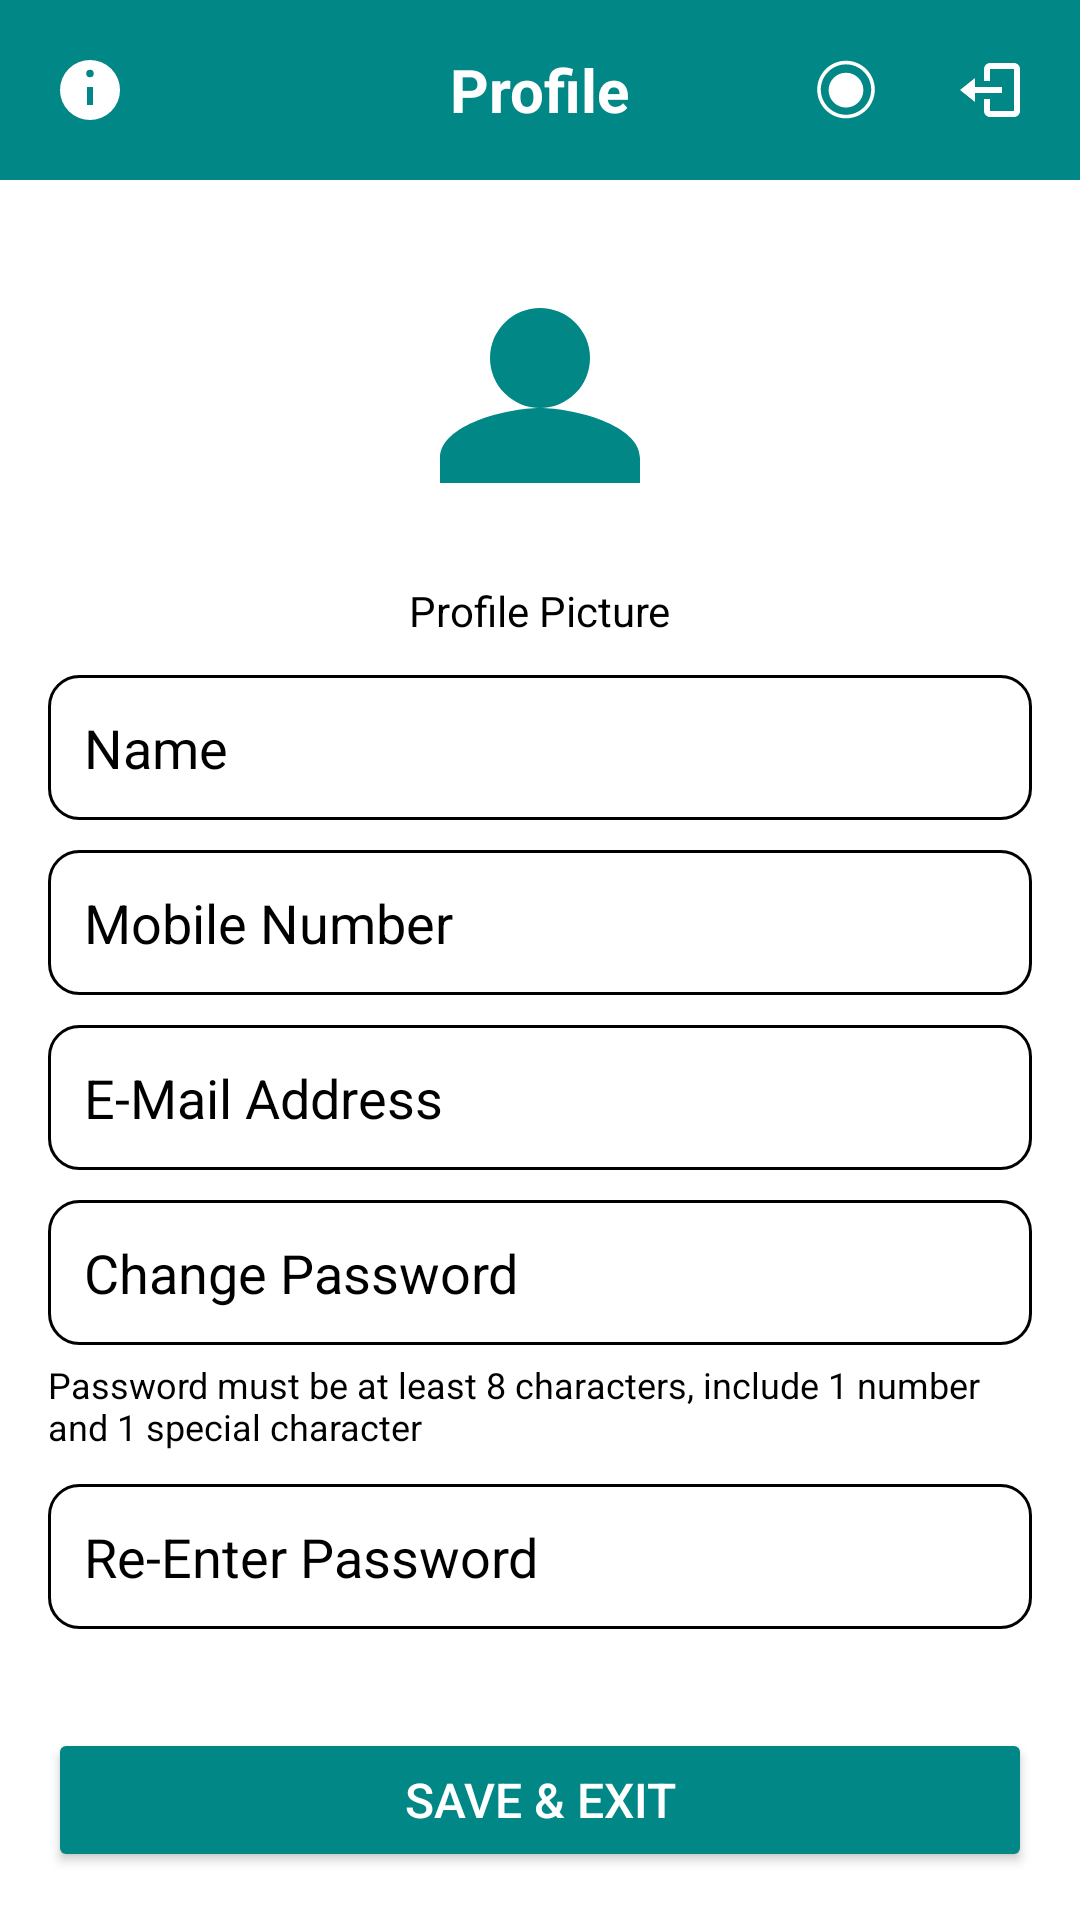

Icon bounding boxes for this 1080 × 1920 phone screenshot, format (x1, y1, x2, y2):
Info: (60, 60, 120, 120)
